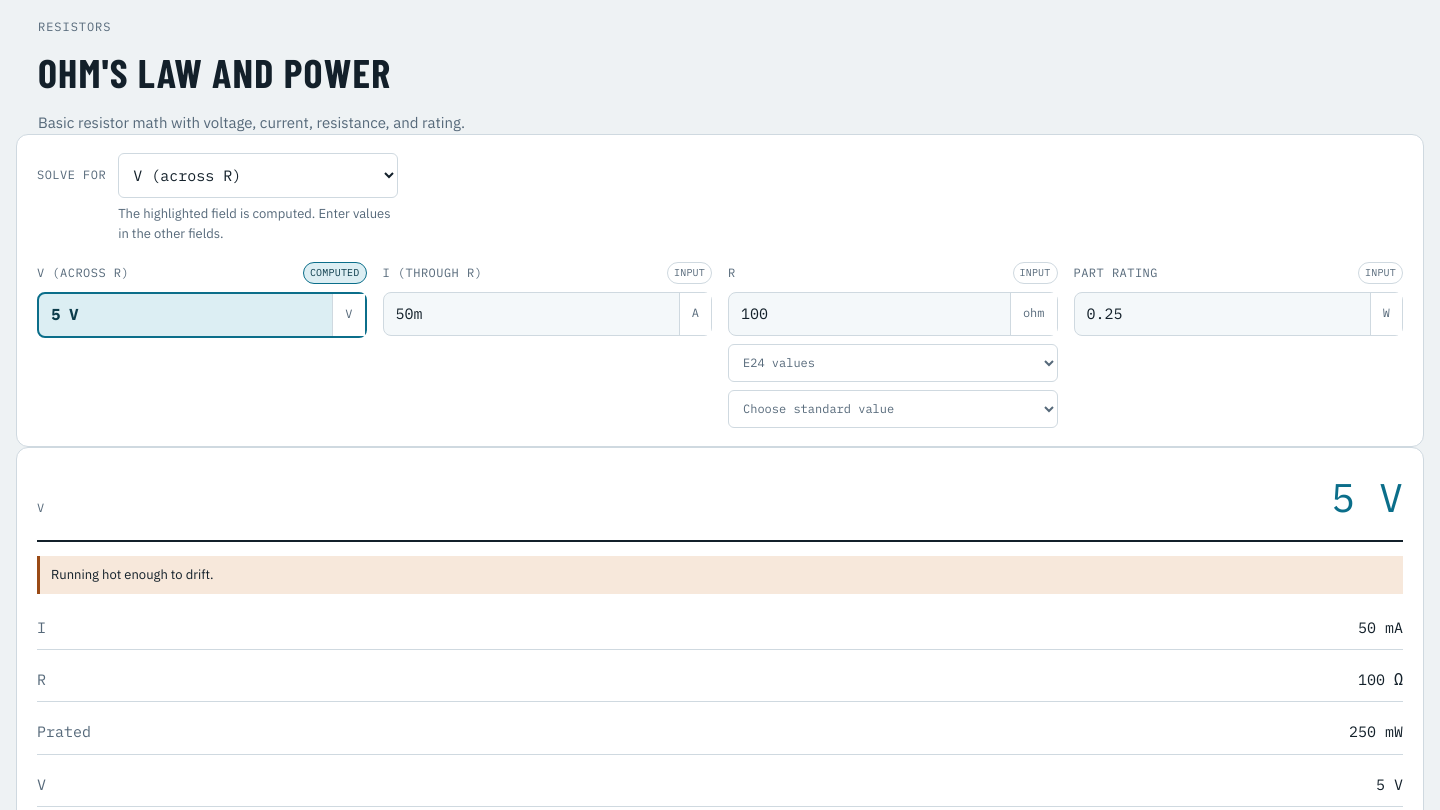
Scenario: OhmView › shows a warn check when power exceeds the part rating
This screenshot has width=1440, height=810.
Replace the text in the field labelled "I (through R)" with "3" at (531, 314), box x1=384 y1=293 x2=679 y2=335
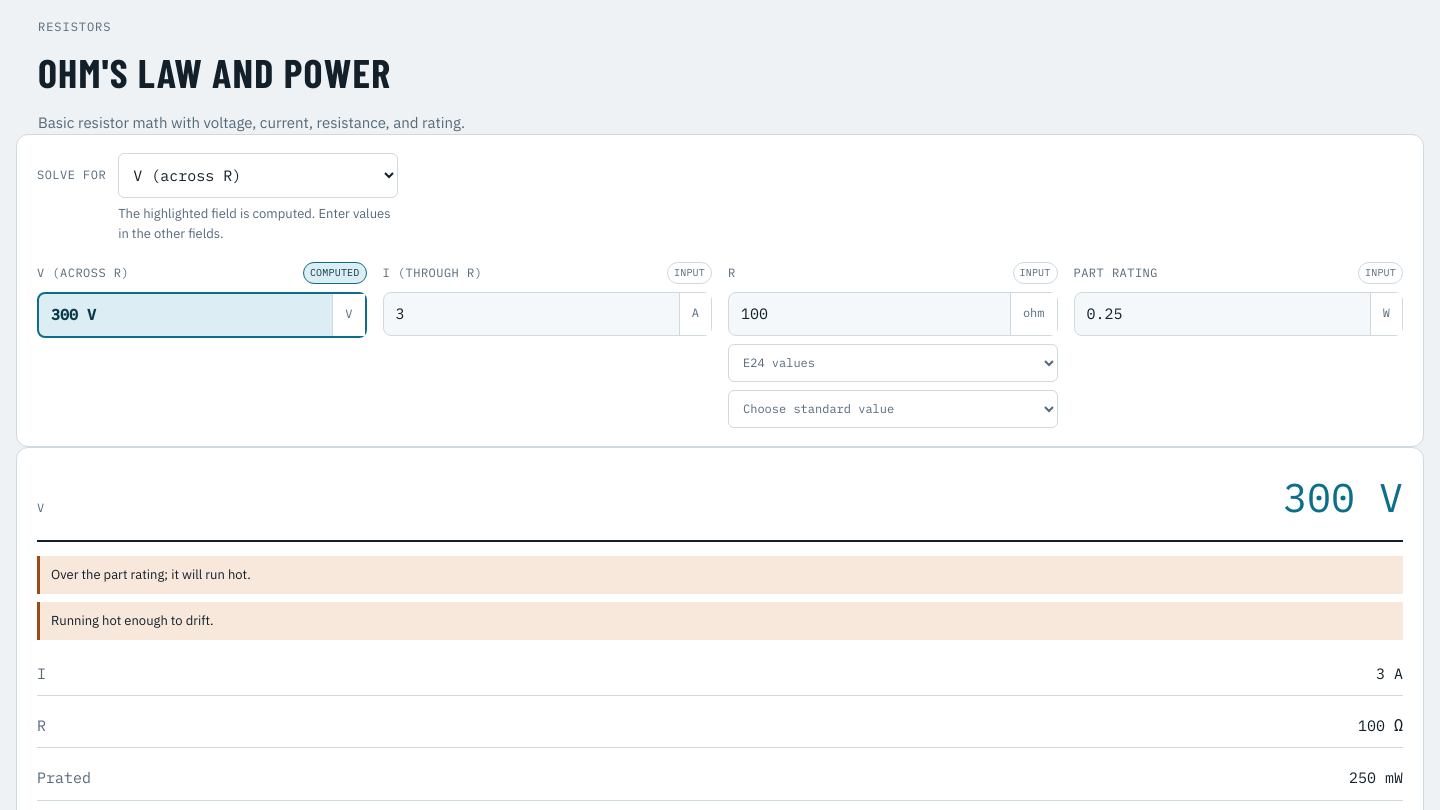
Result: the text "Over the part rating; it will run hot." is shown at x1=37 y1=556 x2=1403 y2=594
